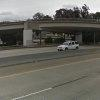Bridge: (2, 10, 94, 41)
